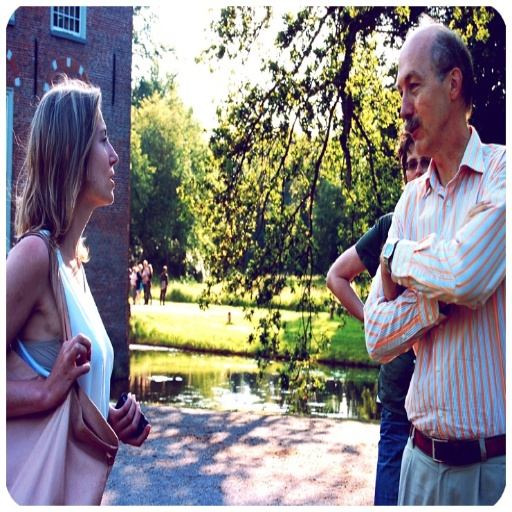hand: (34, 339, 84, 403), (107, 389, 151, 449), (379, 256, 402, 301)
